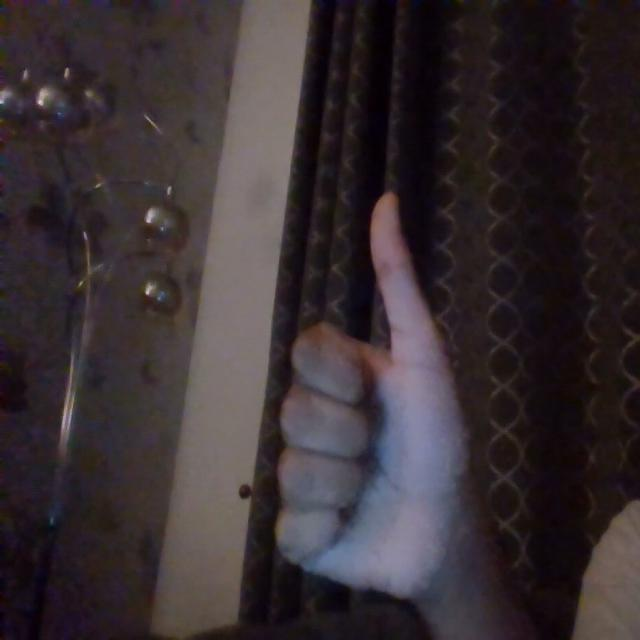hand thumb up: (282, 189, 463, 602)
